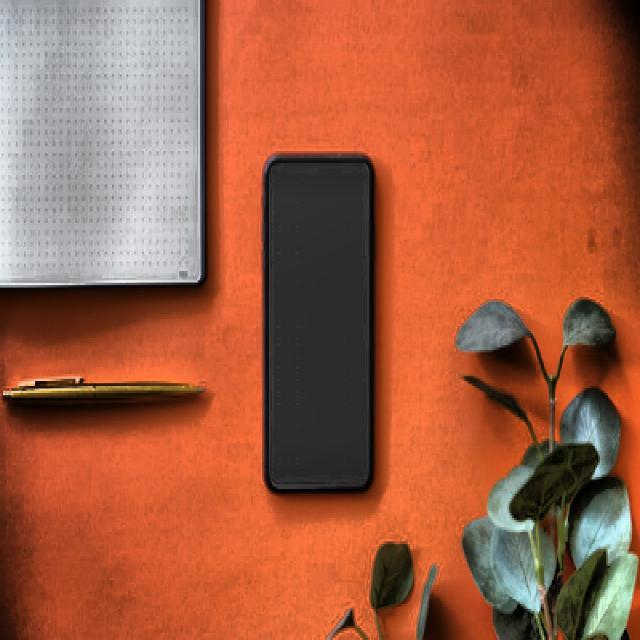Phone: (260, 154, 374, 496)
